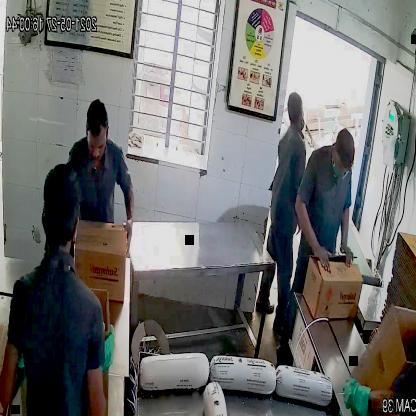no_goggles: (86, 133, 110, 154)
